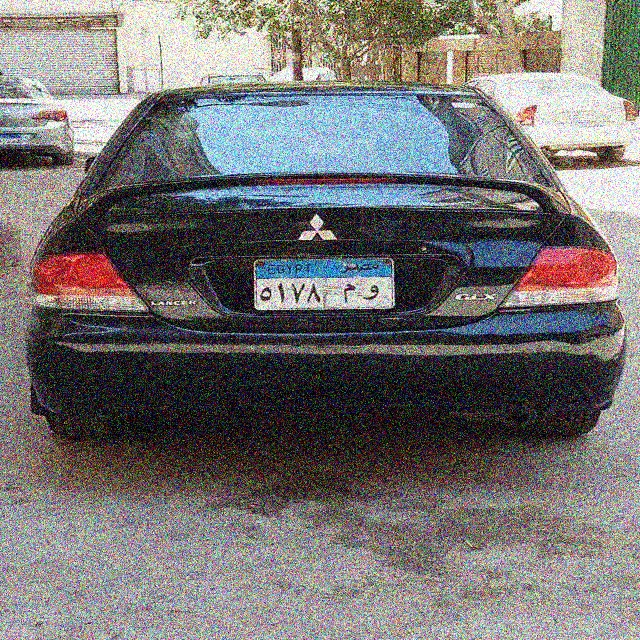License Plate: (249, 255, 398, 312)
